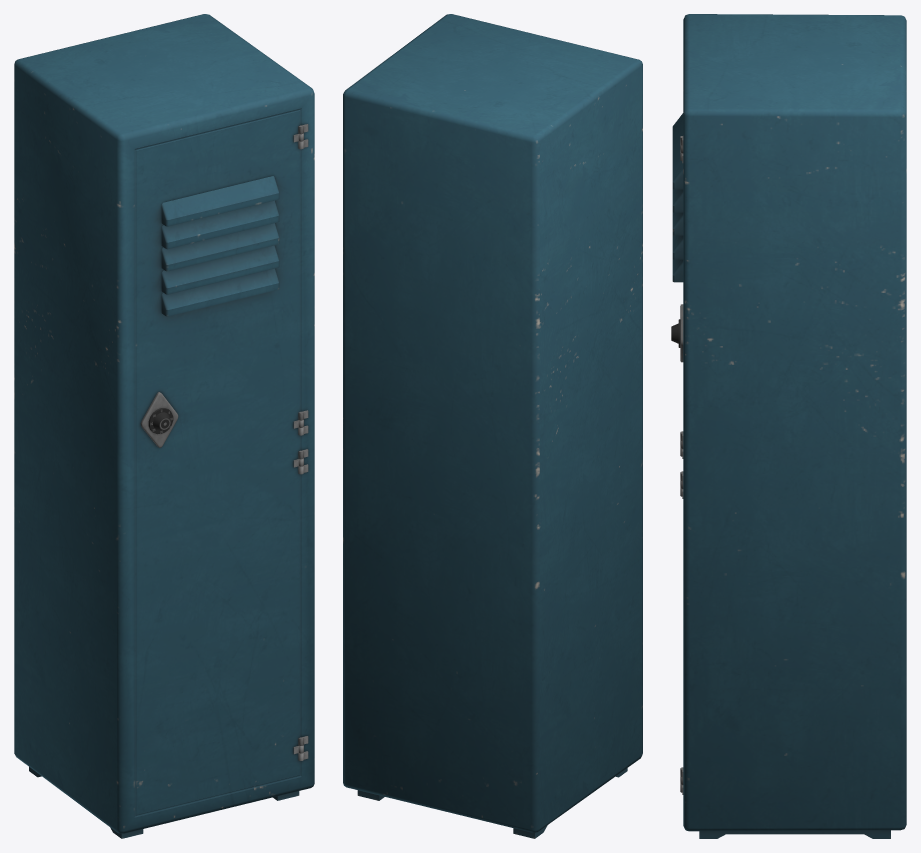
File: Locker_Metal_02.fbx
3 renders of one model, left to right at view 1: azimuth 30°, elevation 25°; view 2: azimuth 150°, elevation 25°; view 3: azimuth 270°, elevation 25°, orthographic. The views are drawn at different scales.
Visible parts, largest first — view 1: WareHouse_Lockers-2; view 2: WareHouse_Lockers-2; view 3: WareHouse_Lockers-2.
Part boxes in pixels (x1,y1,x2,y2): WareHouse_Lockers-2: (14, 14, 314, 838); WareHouse_Lockers-2: (343, 14, 642, 838); WareHouse_Lockers-2: (671, 14, 906, 838).
Bounding box in the file's own units: 50.23 × 173 × 50.45.
